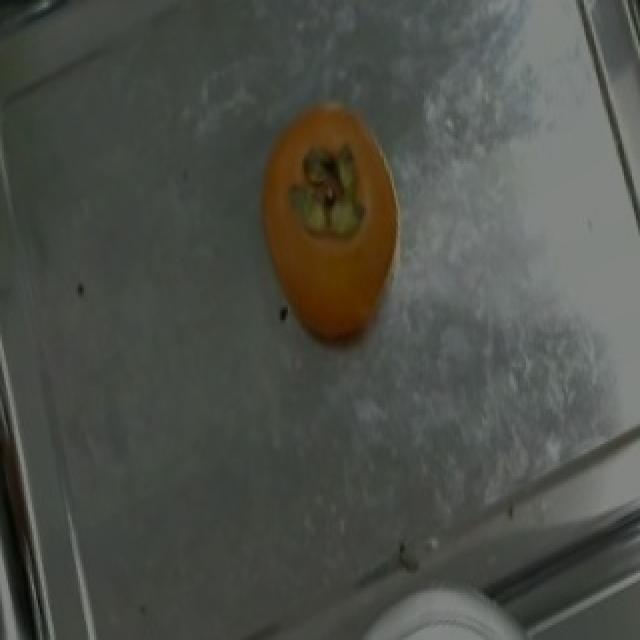Fruit: (236, 82, 430, 357), (338, 588, 546, 637)
